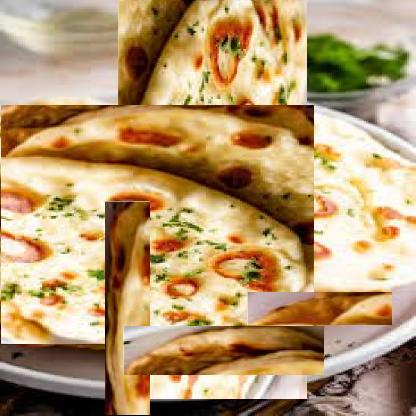naan: (62, 46, 362, 344), (0, 104, 314, 344), (52, 254, 203, 404), (123, 325, 324, 375), (247, 291, 392, 325)
